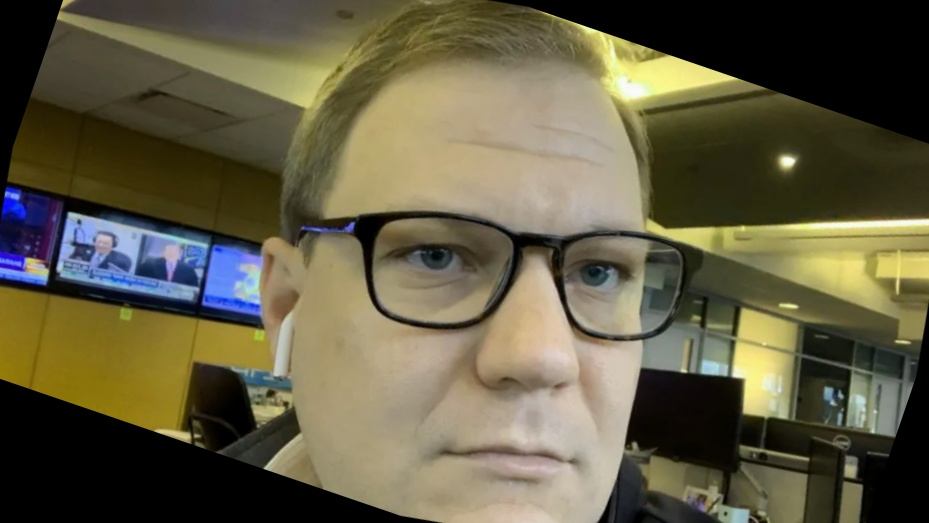earphone: (219, 227, 337, 391)
